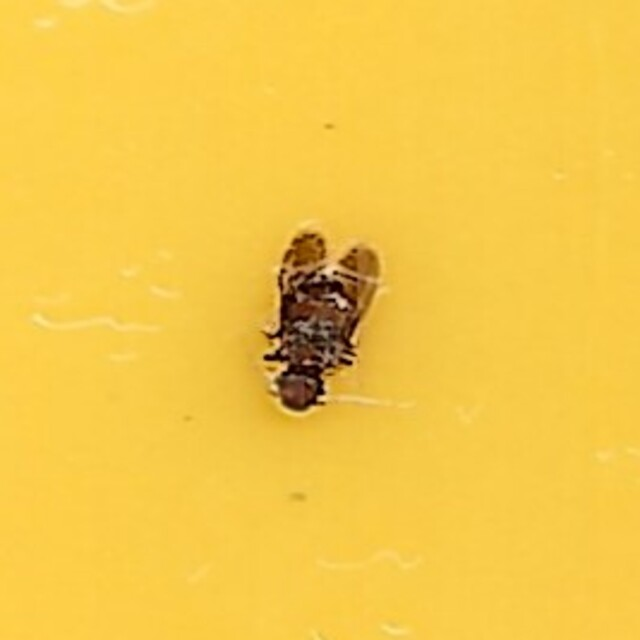Psocoptera: (240, 215, 400, 425)
